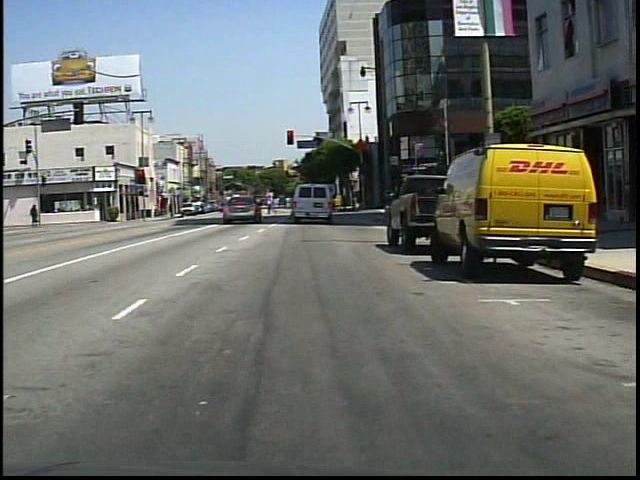person: (286, 191, 304, 223), (264, 194, 278, 219), (29, 204, 40, 227)
